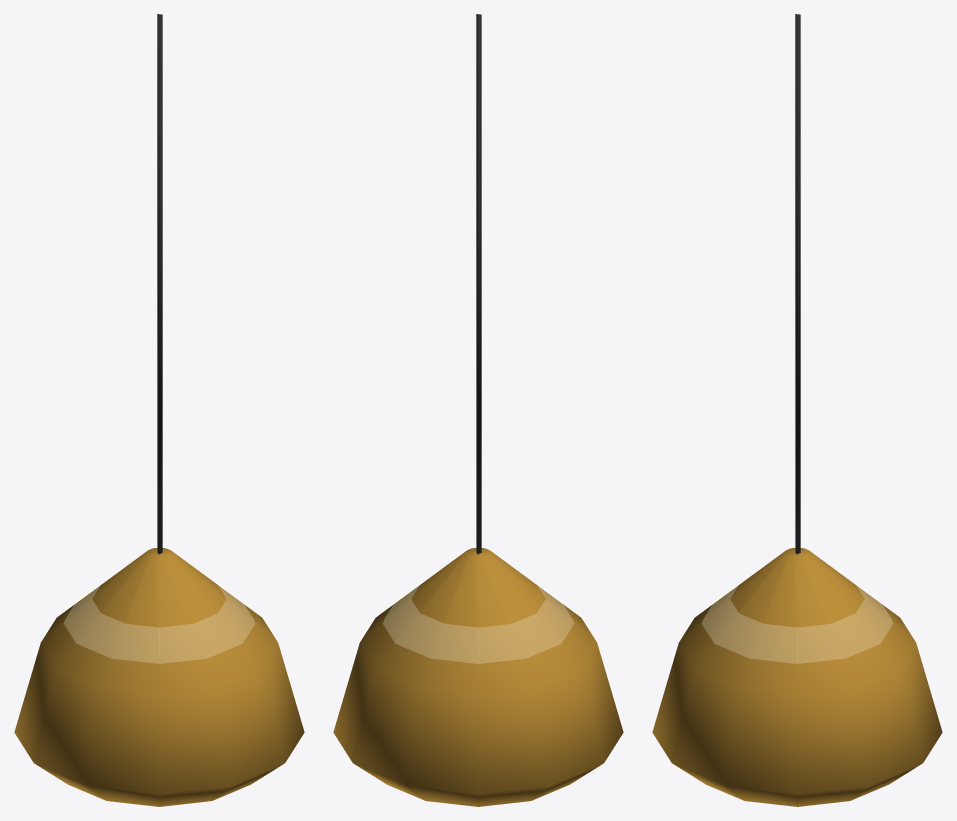
The model's file is city_pendant_lamp.glb.
3 views of the same model, side by side, from view 1: azimuth 30°, elevation 25°; view 2: azimuth 150°, elevation 25°; view 3: azimuth 270°, elevation 25° (orthographic).
Visible parts, largest first — view 1: CityPendantLamp_Shade, CityPendantLamp_Bulb_Halo, CityPendantLamp_Cord; view 2: CityPendantLamp_Shade, CityPendantLamp_Bulb_Halo, CityPendantLamp_Cord; view 3: CityPendantLamp_Shade, CityPendantLamp_Bulb_Halo, CityPendantLamp_Cord.
Part boxes in pixels (x1,y1,x2,y2): CityPendantLamp_Shade: [14, 548, 304, 806]; CityPendantLamp_Bulb_Halo: [64, 586, 254, 663]; CityPendantLamp_Cord: [157, 14, 162, 554]; CityPendantLamp_Shade: [333, 548, 623, 806]; CityPendantLamp_Bulb_Halo: [383, 586, 573, 663]; CityPendantLamp_Cord: [476, 14, 481, 554]; CityPendantLamp_Shade: [652, 548, 942, 806]; CityPendantLamp_Bulb_Halo: [702, 586, 892, 663]; CityPendantLamp_Cord: [795, 14, 800, 554].
Bounding box in the file's own units: 0.44 × 1.3 × 0.44.
